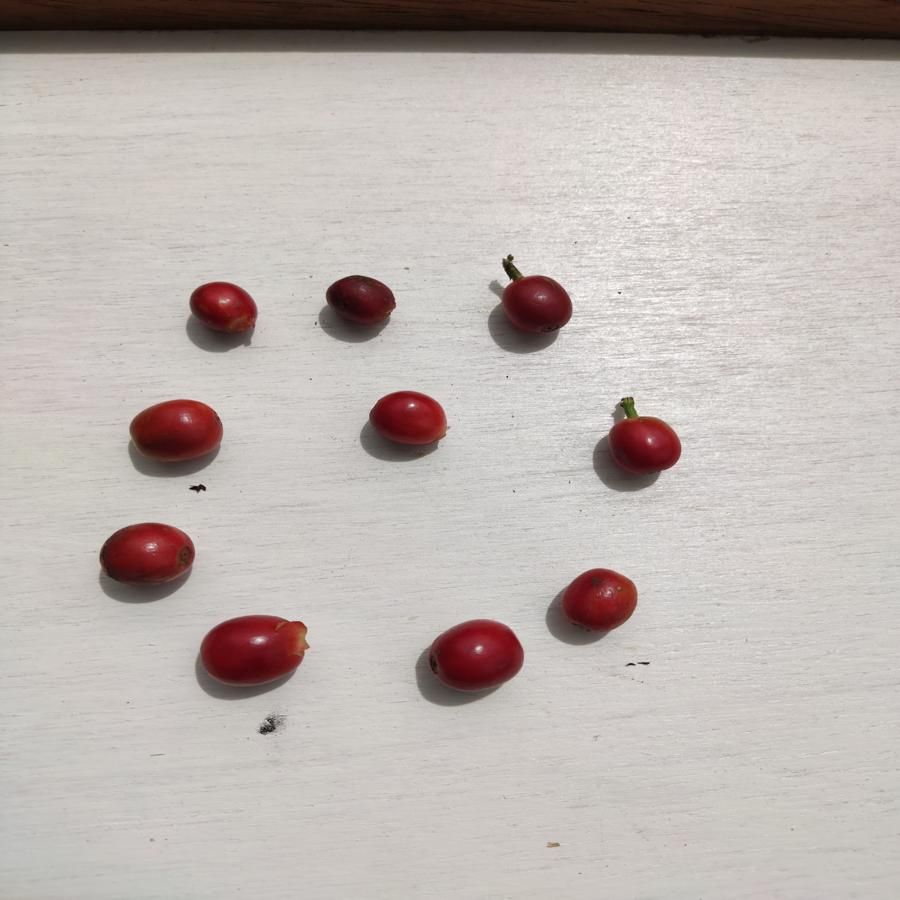Maduro: (198, 614, 307, 689), (97, 519, 199, 592), (426, 620, 527, 691), (126, 399, 224, 465), (560, 564, 637, 637), (608, 415, 684, 475), (367, 389, 447, 443), (187, 280, 262, 335)
Sobremaduro: (495, 269, 575, 335), (323, 272, 399, 324)
